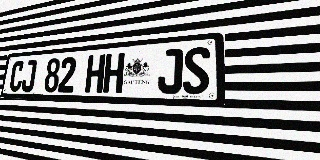2: (58, 57, 77, 92)
8: (43, 58, 62, 92)
C: (9, 61, 25, 92)
H: (103, 53, 125, 93), (85, 54, 106, 93)
J: (157, 48, 183, 94), (20, 60, 37, 92)
S: (182, 46, 210, 94)
